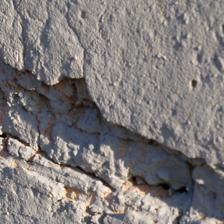Crack: (47, 63, 146, 145), (156, 145, 223, 224)
